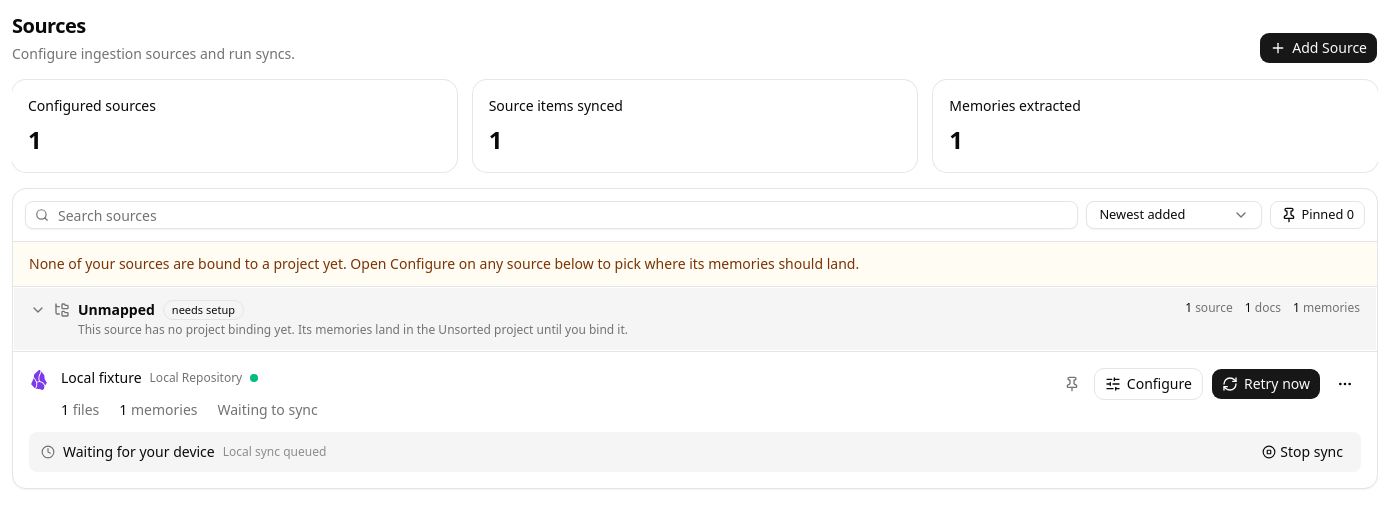
Test case: does not retain a stale exact retry receipt after the server returns terminal
What coordinates should you click on to do the following:
click the button "Retry now"
I would click on:
 (1266, 384)
Its box is x1=1211 y1=368 x2=1321 y2=400.
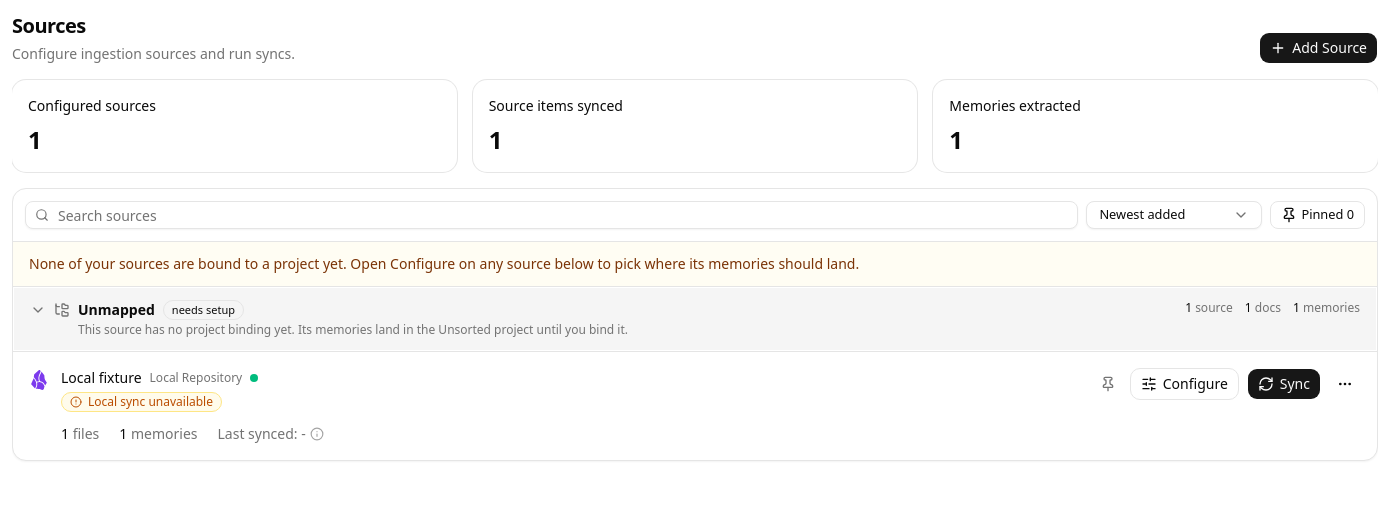
Expected: the button "Sync" is enabled, x1=1247 y1=368 x2=1321 y2=400
Expected: the text "Waiting to sync" is gone
